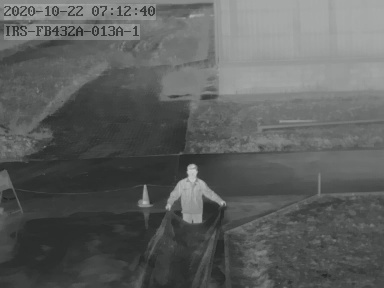person: (166, 163, 226, 225)
